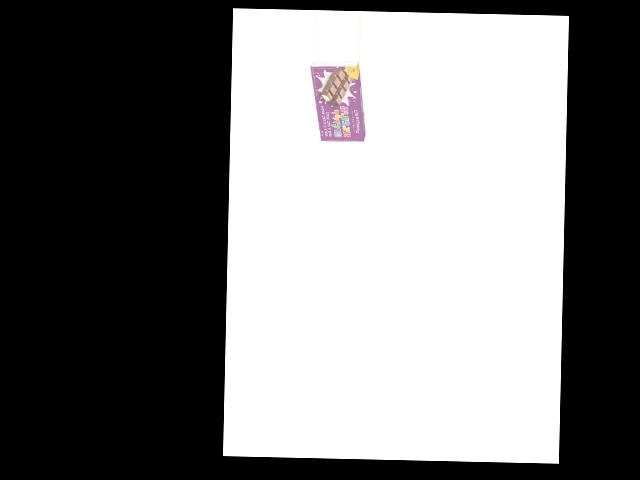chocolate: (312, 59, 367, 147)
